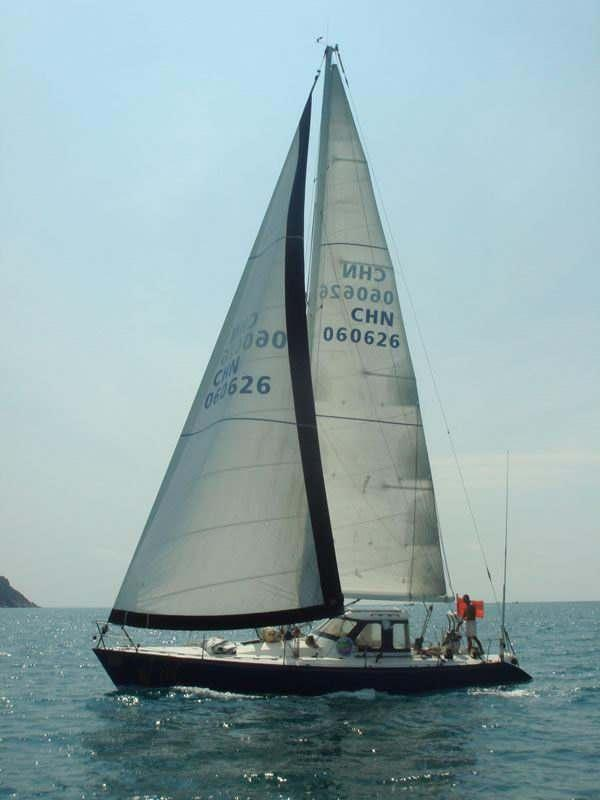fanchuan: (94, 29, 531, 695)
